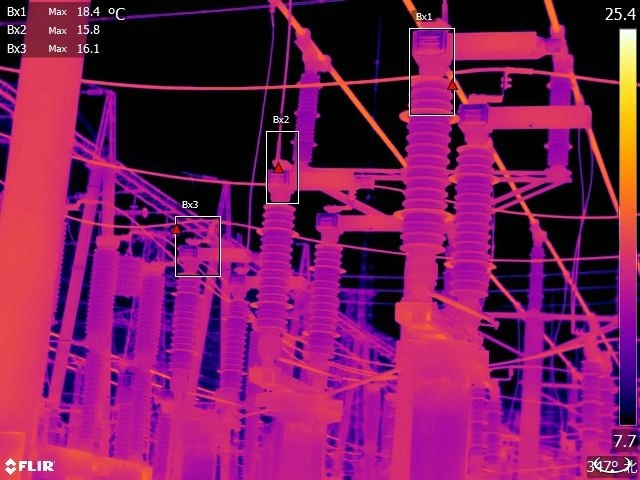circuit breaker: (70, 230, 125, 459), (122, 249, 172, 462)
post insulator: (392, 82, 452, 255), (441, 139, 500, 299), (253, 199, 293, 354), (303, 236, 344, 370), (164, 270, 205, 382), (216, 295, 256, 400), (545, 55, 573, 167), (293, 68, 326, 161), (580, 359, 609, 447), (527, 242, 550, 313)
switch: (405, 19, 562, 79), (451, 93, 603, 143), (265, 150, 374, 202), (303, 201, 399, 240)
